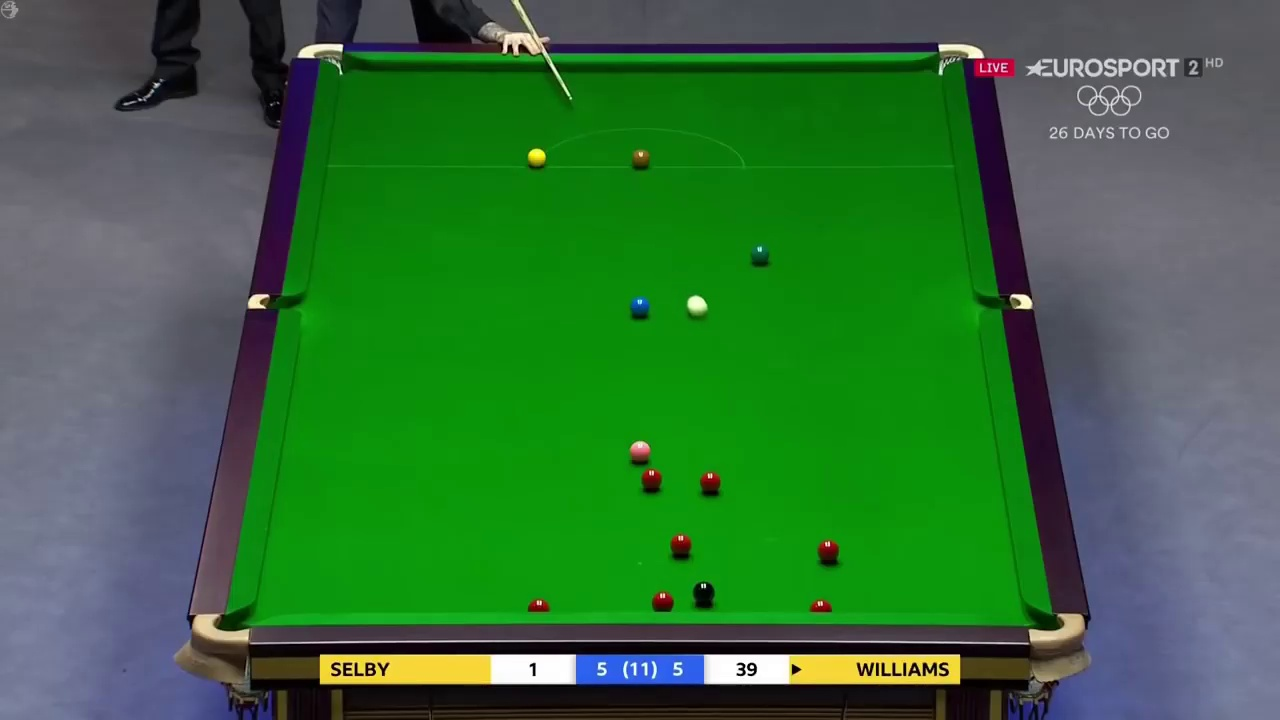ball: (692, 576, 716, 606), (818, 540, 843, 567), (627, 439, 653, 463), (700, 469, 723, 495), (631, 293, 654, 317), (748, 241, 769, 267), (668, 533, 689, 559), (631, 150, 654, 171), (523, 147, 546, 167), (642, 471, 660, 492)
